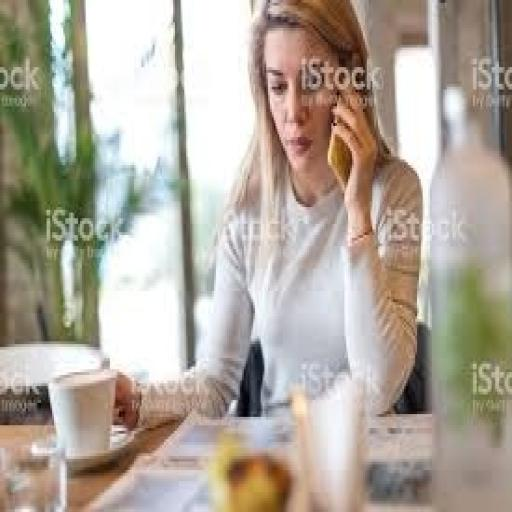calling: (110, 0, 424, 431)
